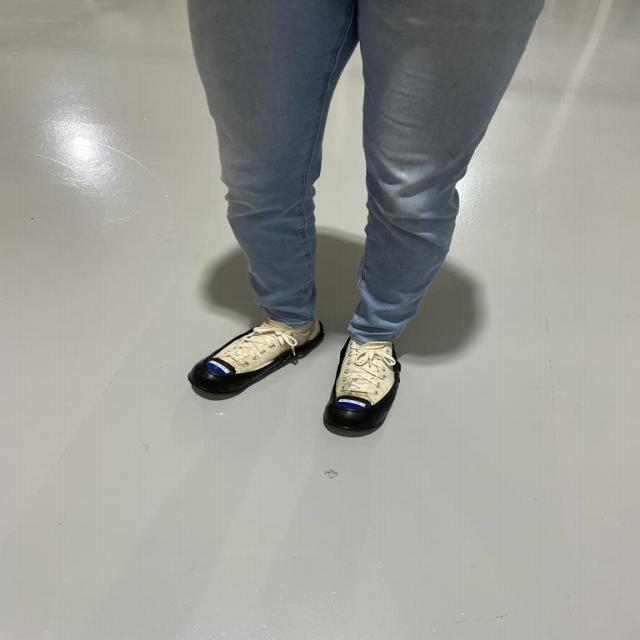shoes: (180, 319, 319, 400), (320, 338, 413, 440)
